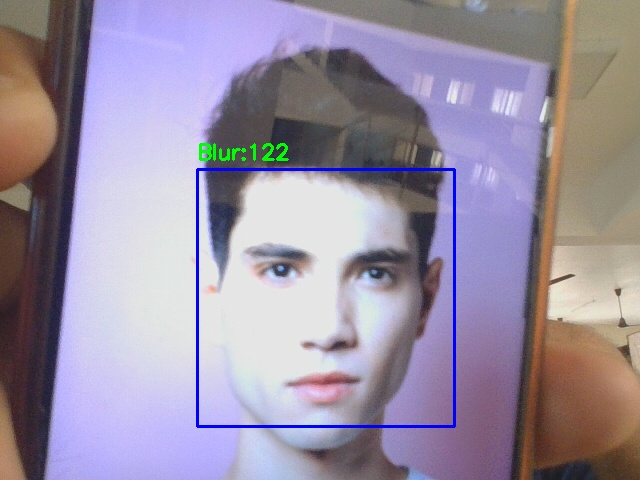fake: (197, 169, 454, 426)
